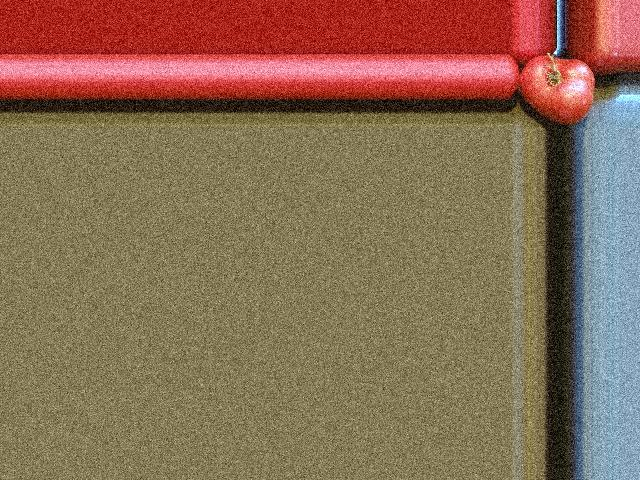tomato: (519, 55, 594, 124)
